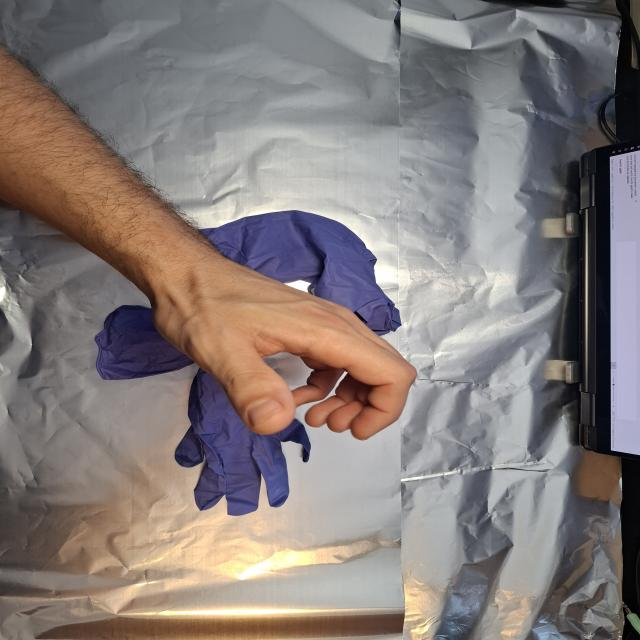glove_off: (147, 259, 419, 442)
